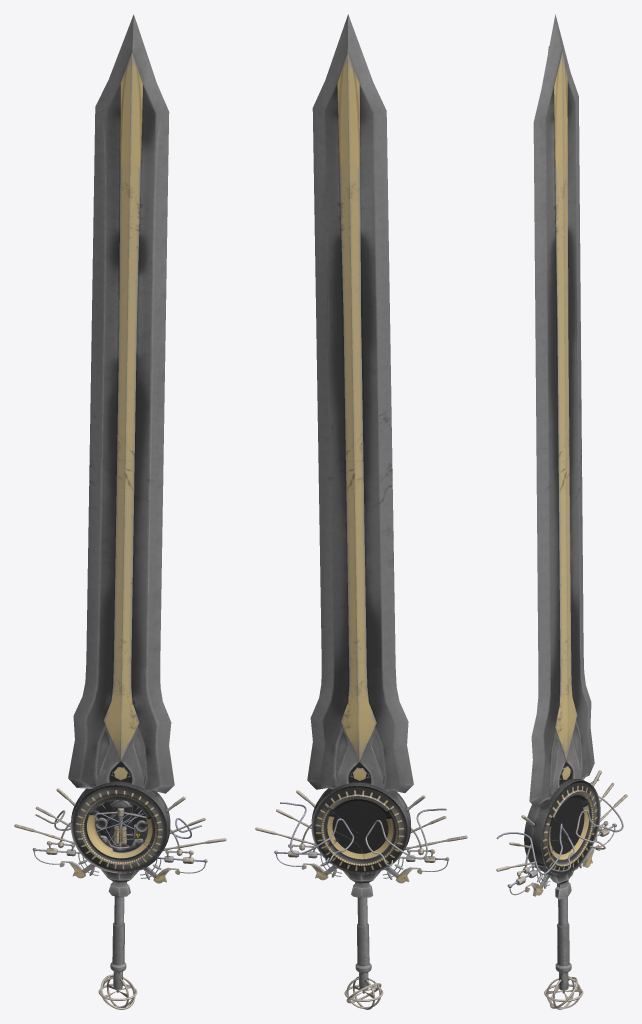
File: steampunk.glb
3 views of the same model, side by side, from view 1: azimuth 30°, elevation 25°; view 2: azimuth 210°, elevation 25°; view 3: azimuth 270°, elevation 25° (orthographic).
Visible parts, largest first — view 1: SteampunkSword_Material.001_0; view 2: SteampunkSword_Material.001_0; view 3: SteampunkSword_Material.001_0.
Boxes of the visible parts, x1,y1,x2,y2 form: SteampunkSword_Material.001_0: (14, 14, 226, 1009); SteampunkSword_Material.001_0: (255, 14, 467, 1009); SteampunkSword_Material.001_0: (496, 14, 627, 1009).
Size of the model in its own units: 0.3083 by 1.98 by 0.2348.
Materials: 1 (1 with a texture image).
